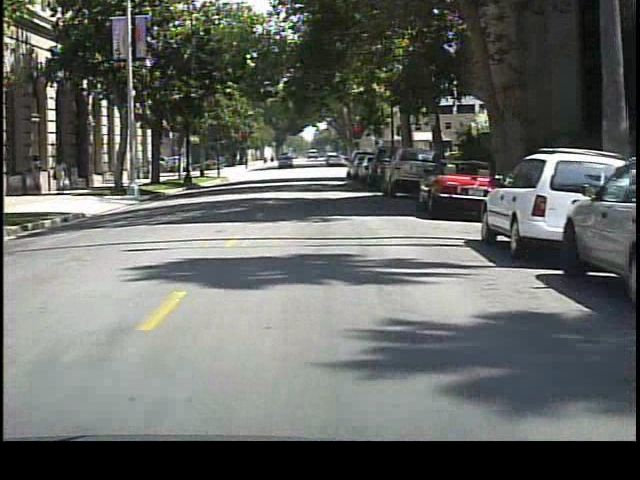person: (48, 153, 73, 194), (30, 149, 50, 192)
